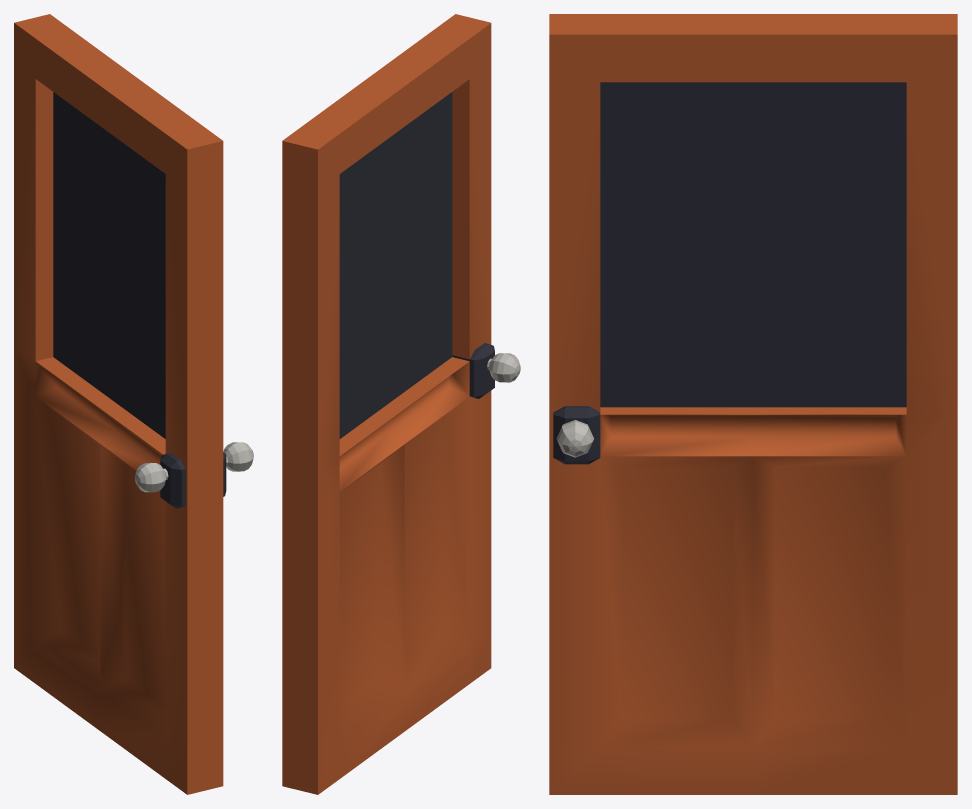
Rendered from Door.fbx.
3 views of the same model, side by side, from view 1: azimuth 30°, elevation 25°; view 2: azimuth 150°, elevation 25°; view 3: azimuth 270°, elevation 25° (orthographic). The views are drawn at different scales.
Visible parts, largest first — view 1: Door, DoorGlass, Key, InsideHandle, OutsideHandle; view 2: Door, DoorGlass, Key, InsideHandle; view 3: Door, DoorGlass, Key, OutsideHandle.
Boxes of the visible parts, box(x1,y1,x2,y2) form: Door: box(14, 14, 223, 794); DoorGlass: box(53, 92, 165, 438); Key: box(160, 452, 226, 508); InsideHandle: box(134, 463, 168, 492); OutsideHandle: box(223, 442, 253, 471); Door: box(282, 14, 491, 794); DoorGlass: box(339, 92, 452, 438); Key: box(452, 343, 494, 398); InsideHandle: box(487, 353, 520, 382); Door: box(549, 14, 957, 794); DoorGlass: box(600, 82, 906, 407); Key: box(553, 406, 600, 464); OutsideHandle: box(556, 420, 593, 457).
Bounding box in the file's own units: 0.3593 × 1.93 × 0.9415.
